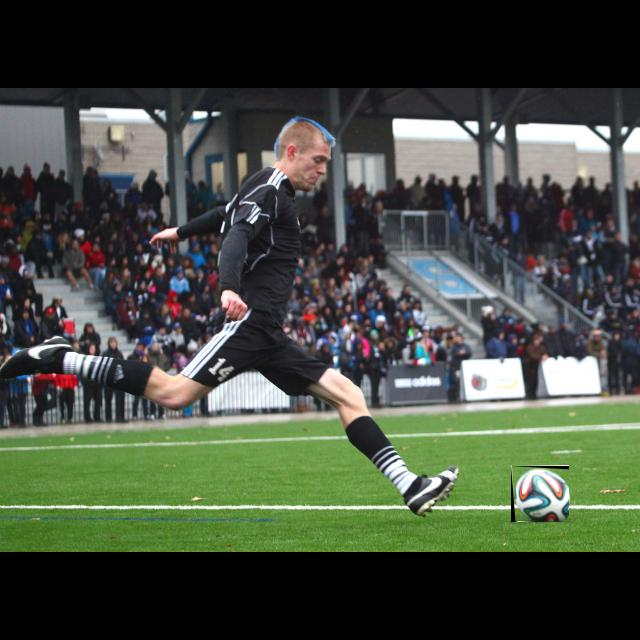Football: (511, 466, 569, 522)
